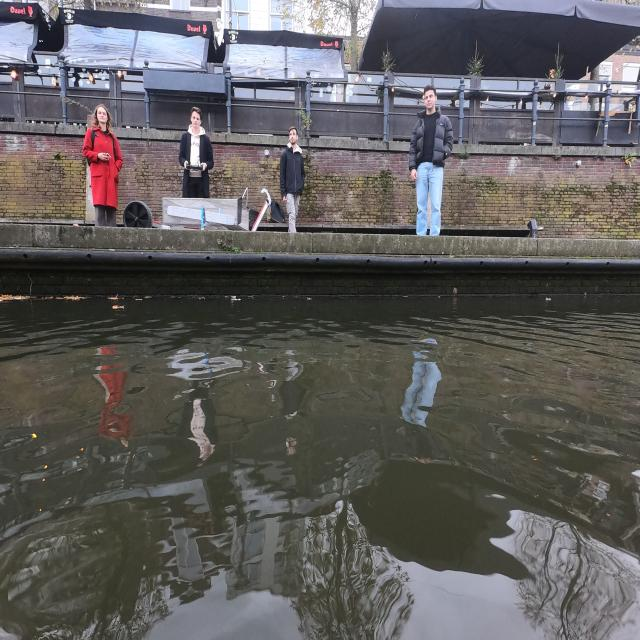dock: (10, 228, 590, 324)
water: (8, 306, 638, 632)
